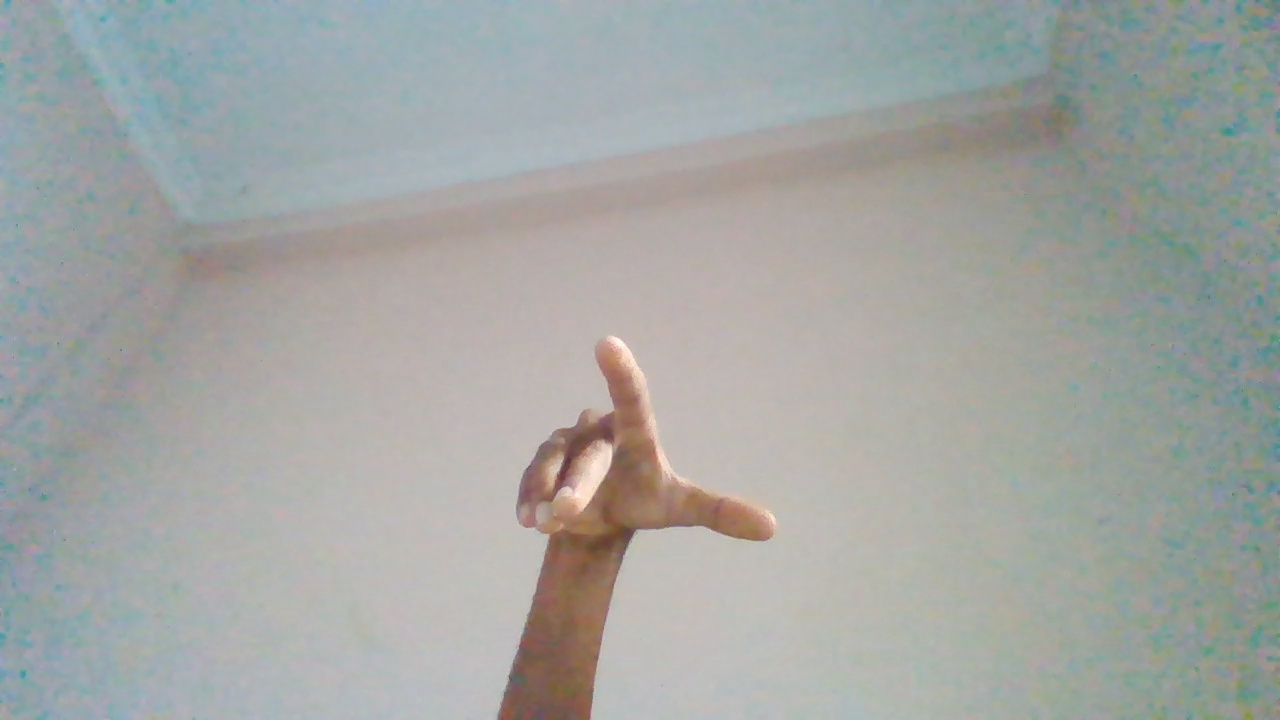ke: (513, 334, 775, 690)
